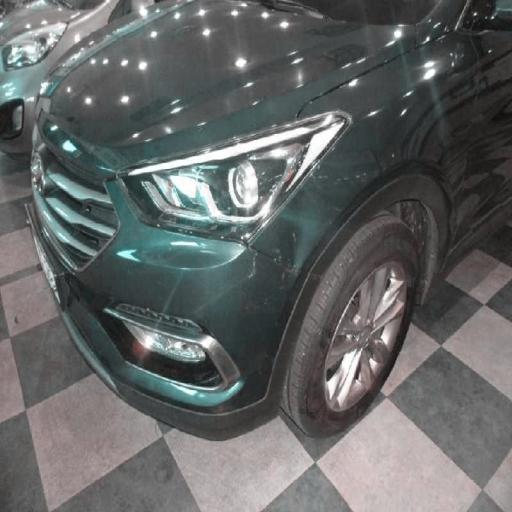broken: (224, 204, 322, 334)
